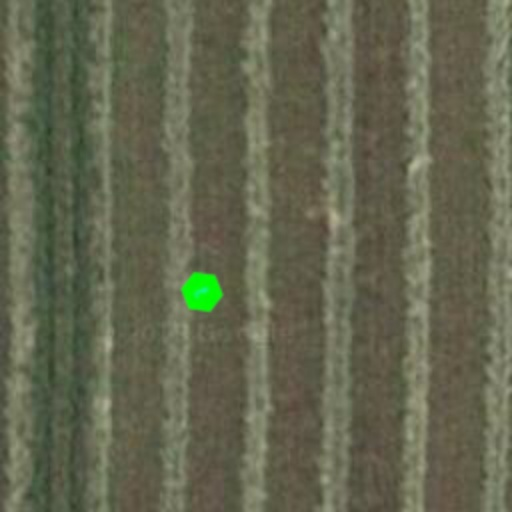hexagon: (172, 262, 232, 322)
